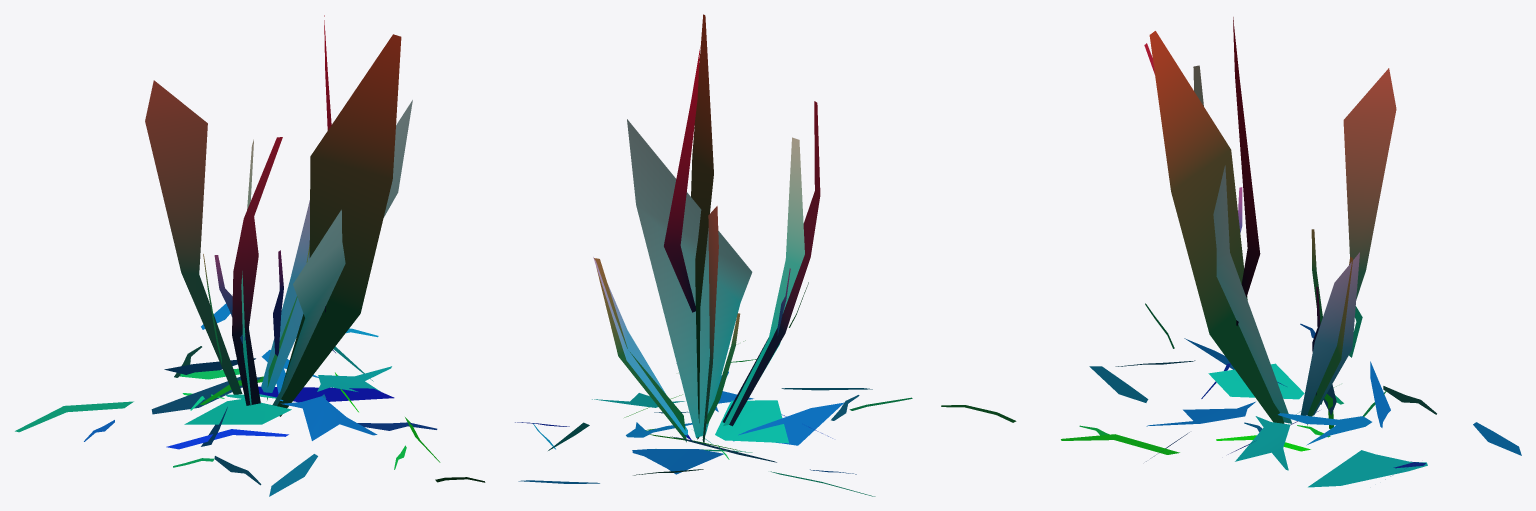
File: Dead_Shrubs_vdknafgha_Low_vdknafgha_VarA_LOD0.fbx
3 views of the same model, side by side, from view 1: azimuth 30°, elevation 25°; view 2: azimuth 150°, elevation 25°; view 3: azimuth 270°, elevation 25° (orthographic). The views are drawn at different scales.
Visible parts, largest first — view 1: _78hv_VarA_LOD1; view 2: _78hv_VarA_LOD1; view 3: _78hv_VarA_LOD1.
Part boxes in pixels (x1,y1,x2,y2): _78hv_VarA_LOD1: (15,15,485,496); _78hv_VarA_LOD1: (515,14,912,496); _78hv_VarA_LOD1: (941,17,1521,487).
Bounding box in the file's own units: 29.45 × 30.06 × 36.81.
